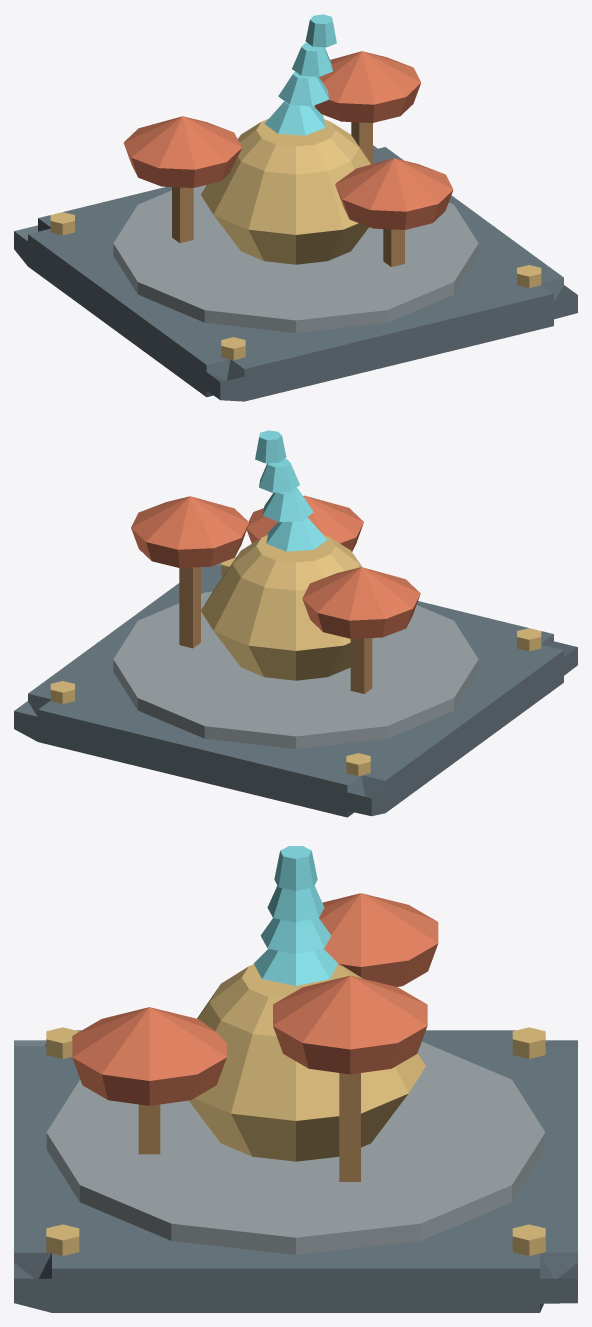
Rendered from TrapHallucination.fbx.
3 views of the same model, one above another, from view 1: azimuth 30°, elevation 25°; view 2: azimuth 150°, elevation 25°; view 3: azimuth 270°, elevation 25° (orthographic). The views are drawn at different scales.
Parts seen in each view (by area): view 1: TrapHallucination.002; view 2: TrapHallucination.002; view 3: TrapHallucination.002.
Part boxes in pixels (<box>): TrapHallucination.002: <box>14,14,577,401</box>; TrapHallucination.002: <box>14,430,577,817</box>; TrapHallucination.002: <box>14,846,577,1312</box>.
Size of the model in its own units: 104 by 73 by 104.
